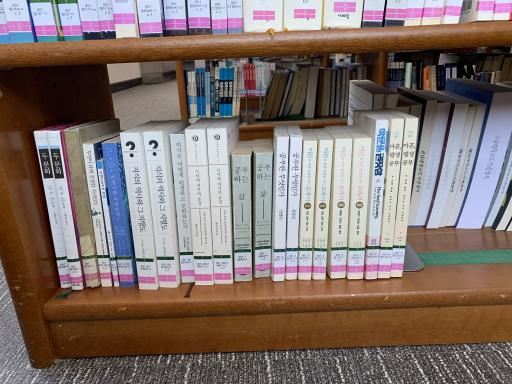book-spine: (34, 130, 71, 288), (48, 130, 84, 290), (64, 130, 100, 287), (120, 133, 156, 290), (143, 132, 177, 288), (101, 143, 134, 286), (185, 129, 213, 285), (378, 119, 405, 278), (391, 118, 418, 277), (82, 143, 112, 286), (207, 128, 233, 284), (170, 134, 195, 282), (348, 138, 372, 279), (368, 120, 389, 279), (331, 139, 353, 278), (96, 161, 119, 287), (314, 140, 334, 280), (232, 155, 252, 281), (299, 141, 317, 280), (286, 136, 302, 280), (256, 153, 273, 277), (275, 137, 289, 281)
